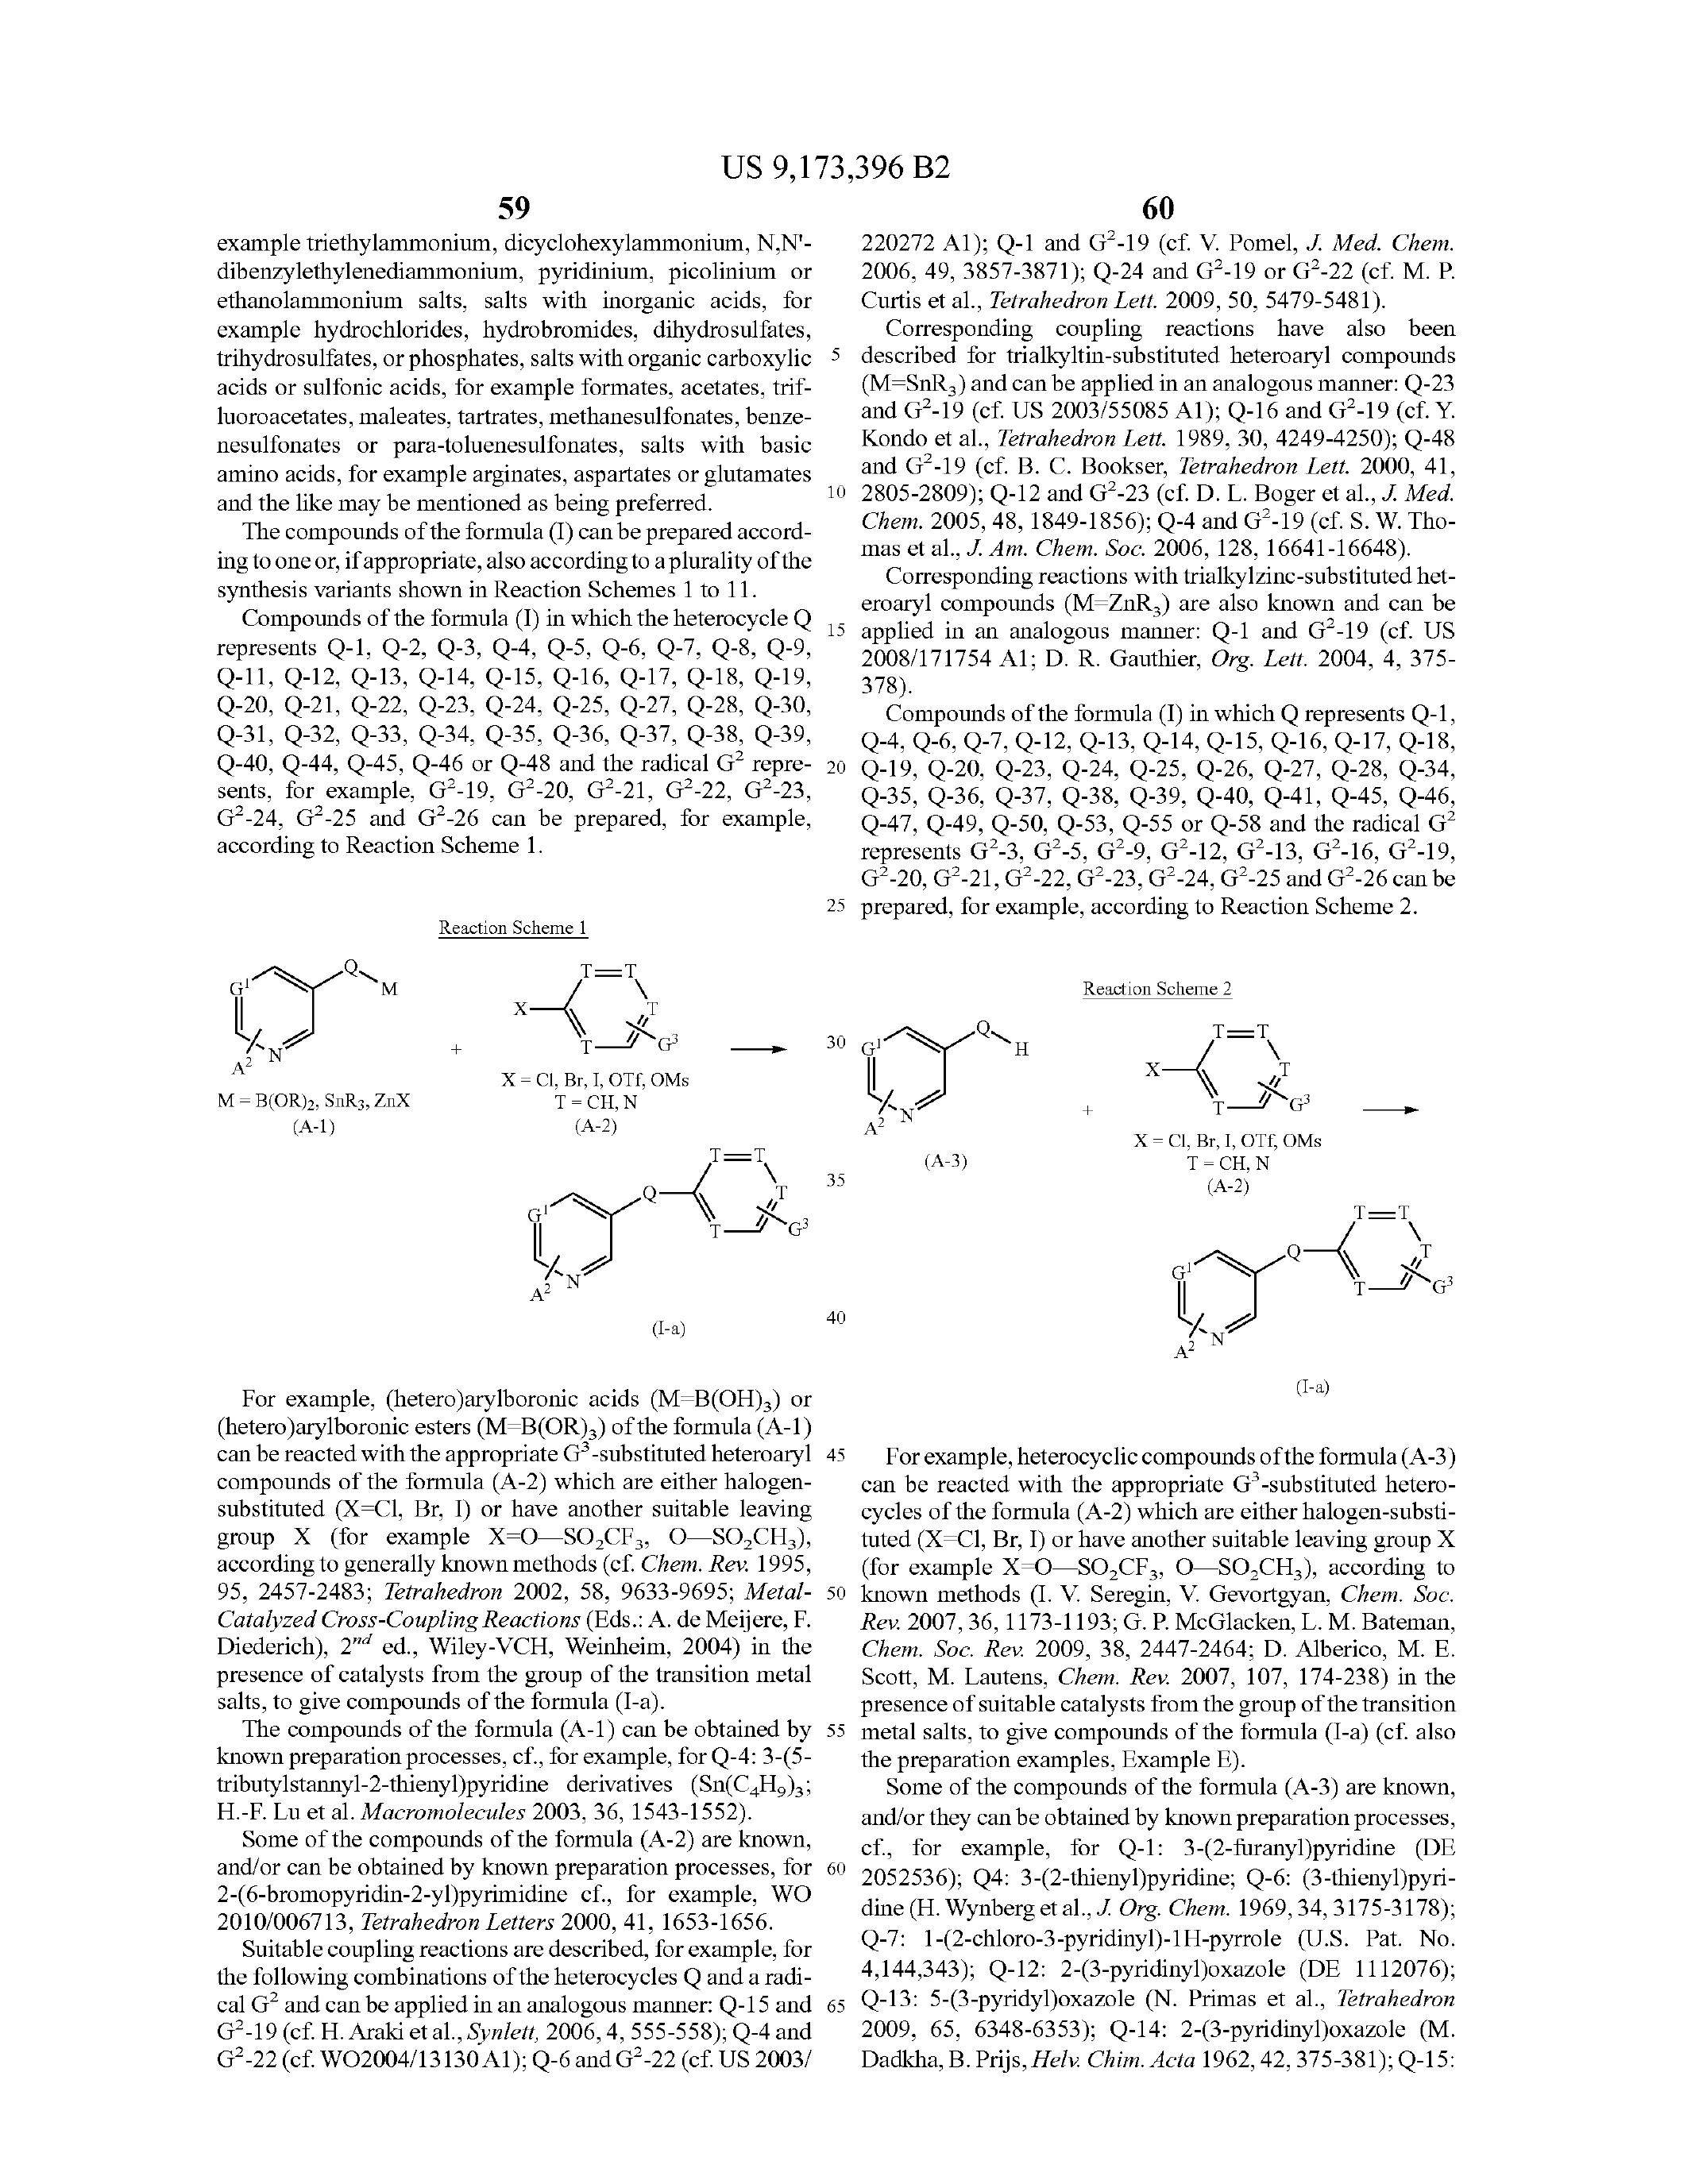reactions: (188, 916, 1527, 1374)
